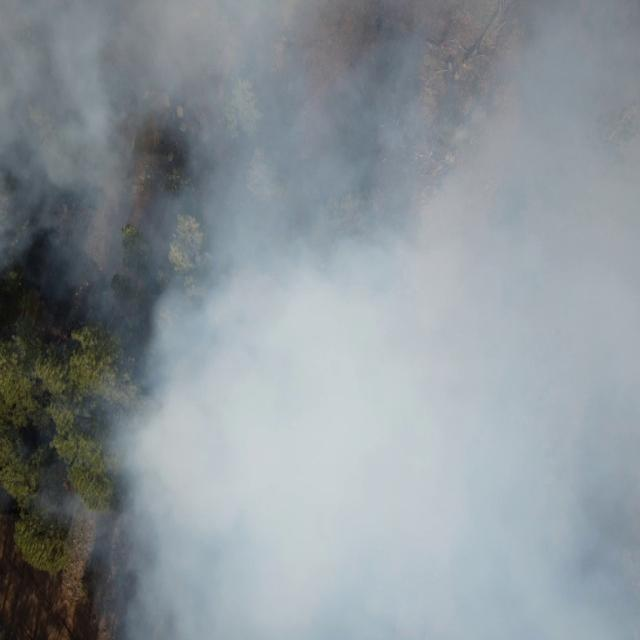fire: (60, 481, 74, 495), (60, 331, 72, 344)
smoke: (90, 0, 640, 640), (0, 0, 91, 346), (15, 388, 90, 554)
